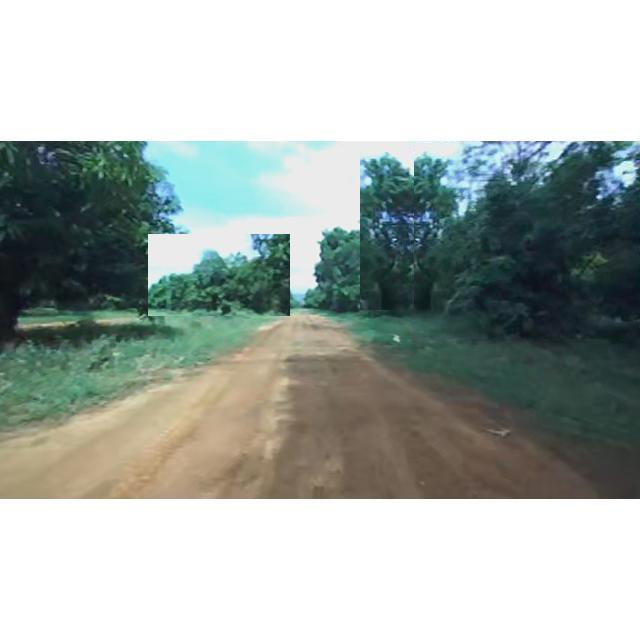direk: (414, 142, 640, 340), (0, 144, 192, 356), (360, 152, 452, 310), (148, 234, 290, 316), (308, 214, 408, 320)
